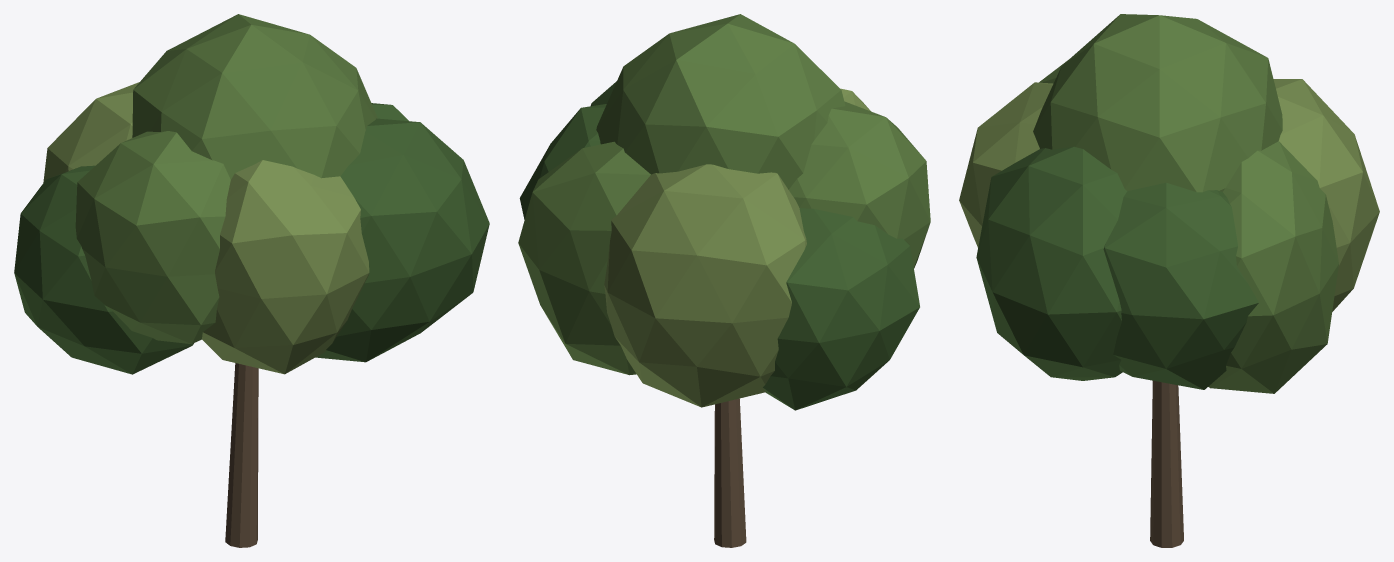
File: broadleaf-lod0.glb
3 renders of one model, left to right at view 1: azimuth 30°, elevation 25°; view 2: azimuth 150°, elevation 25°; view 3: azimuth 270°, elevation 25°, orthographic. The views are drawn at different scales.
Visible parts, largest first — view 1: Broadleaf_LOD0; view 2: Broadleaf_LOD0; view 3: Broadleaf_LOD0.
Part boxes in pixels (<box>): Broadleaf_LOD0: <box>14,14,489,547</box>; Broadleaf_LOD0: <box>518,14,930,547</box>; Broadleaf_LOD0: <box>959,14,1379,547</box>.
Bounding box in the file's own units: 6.21 × 7.89 × 5.69.
